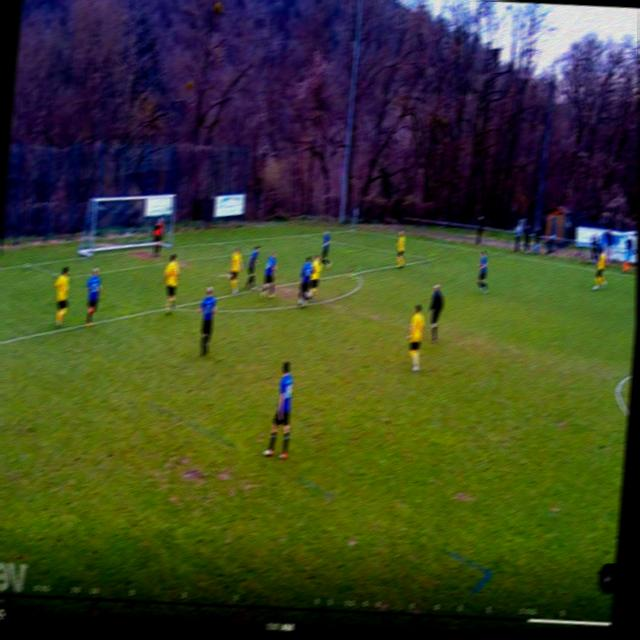bigarea_top_inner: (422, 252, 437, 267)
bigarea_top_outter: (296, 226, 307, 247)
corner: (346, 224, 359, 236)
smallarea_bottom_outter: (21, 255, 34, 273)
smallarea_top_outter: (207, 234, 220, 250)
top_arc_area_intersection: (346, 264, 358, 281)
